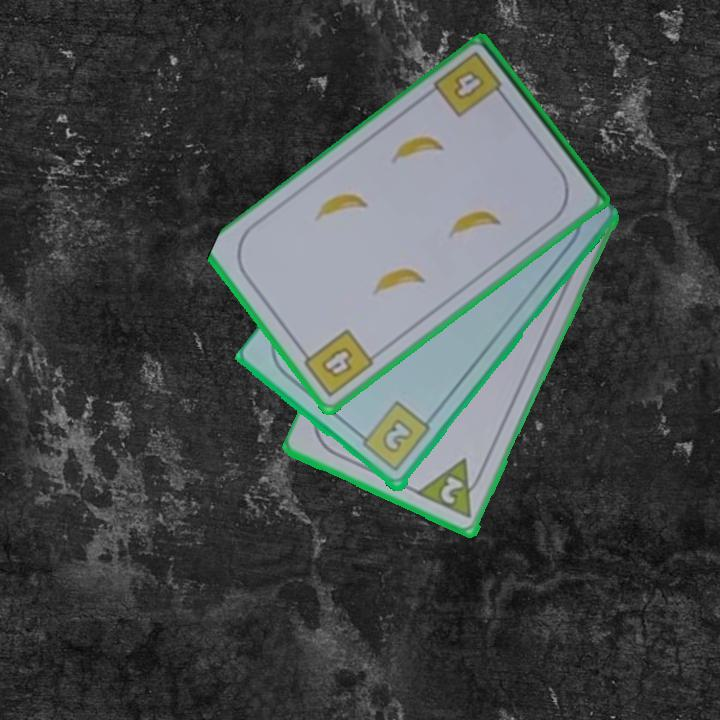2b: (353, 398, 433, 476)
2p: (414, 455, 489, 522)
4b: (296, 325, 377, 400), (430, 48, 511, 121)
